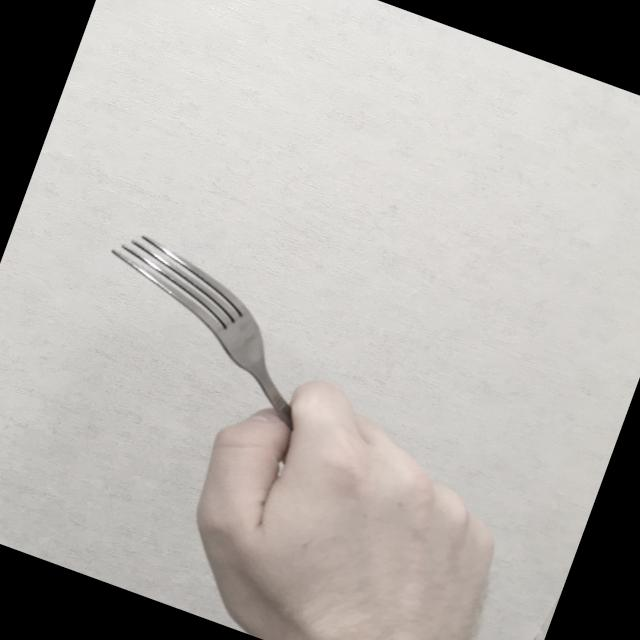fork: (59, 226, 402, 494)
